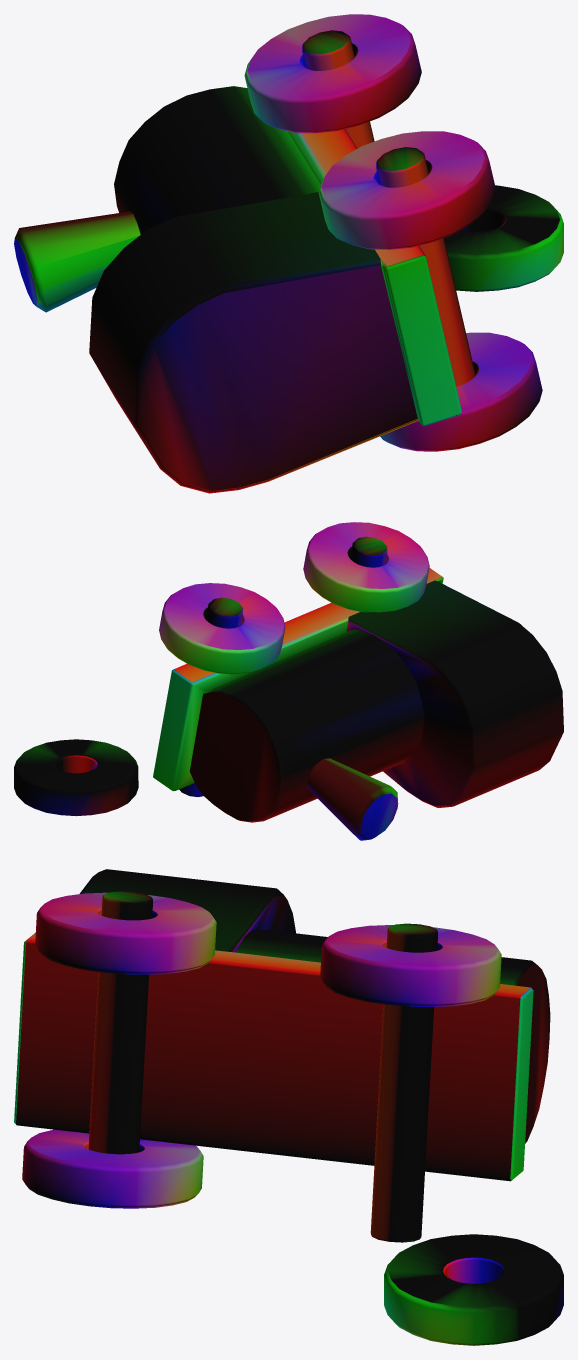
The model's file is Train.gltf.
3 views of the same model, one above another, from view 1: azimuth 30°, elevation 25°; view 2: azimuth 150°, elevation 25°; view 3: azimuth 270°, elevation 25° (orthographic). The views are drawn at different scales.
Visible parts, largest first — view 1: Train.001; view 2: Train.001; view 3: Train.001.
Boxes of the visible parts, x1,y1,x2,y2 form: Train.001: (14,14,563,493); Train.001: (14,522,563,840); Train.001: (14,869,563,1345).
Bounding box in the file's own units: 4.59 × 2.12 × 3.6.
